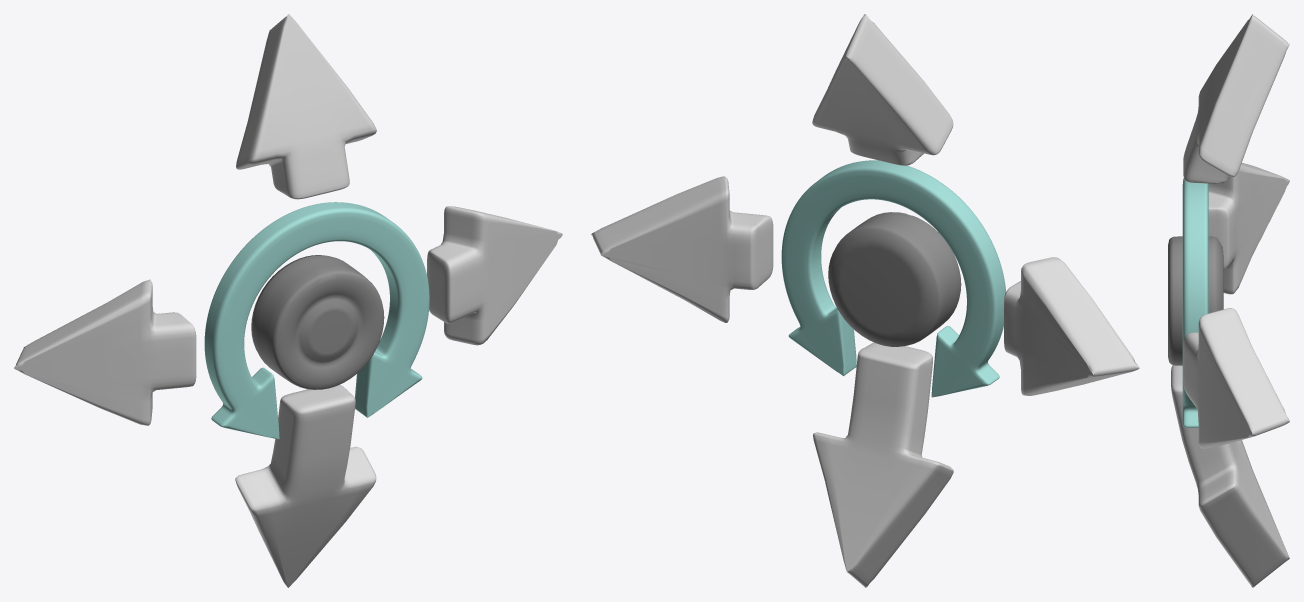
Rendered from camera-widget-roll.fbx.
3 views of the same model, side by side, from view 1: azimuth 30°, elevation 25°; view 2: azimuth 150°, elevation 25°; view 3: azimuth 270°, elevation 25° (orthographic).
Visible parts, largest first — view 1: verticalArrowMesh, horizontalArrowMesh, rollArrowMesh, centerMesh; view 2: verticalArrowMesh, horizontalArrowMesh, rollArrowMesh, centerMesh; view 3: verticalArrowMesh, horizontalArrowMesh, rollArrowMesh, centerMesh.
Boxes of the visible parts, bbox=[...] form: verticalArrowMesh: bbox=[235, 14, 376, 587]; horizontalArrowMesh: bbox=[14, 206, 562, 425]; rollArrowMesh: bbox=[204, 202, 429, 438]; centerMesh: bbox=[251, 255, 384, 389]; verticalArrowMesh: bbox=[812, 14, 953, 587]; horizontalArrowMesh: bbox=[591, 176, 1139, 395]; rollArrowMesh: bbox=[781, 160, 1005, 397]; centerMesh: bbox=[828, 212, 961, 346]; verticalArrowMesh: bbox=[1171, 14, 1289, 587]; horizontalArrowMesh: bbox=[1183, 162, 1289, 448]; rollArrowMesh: bbox=[1182, 178, 1208, 427]; centerMesh: bbox=[1168, 236, 1223, 365].
Size of the model in its own units: 10.35 by 10.34 by 1.99.
